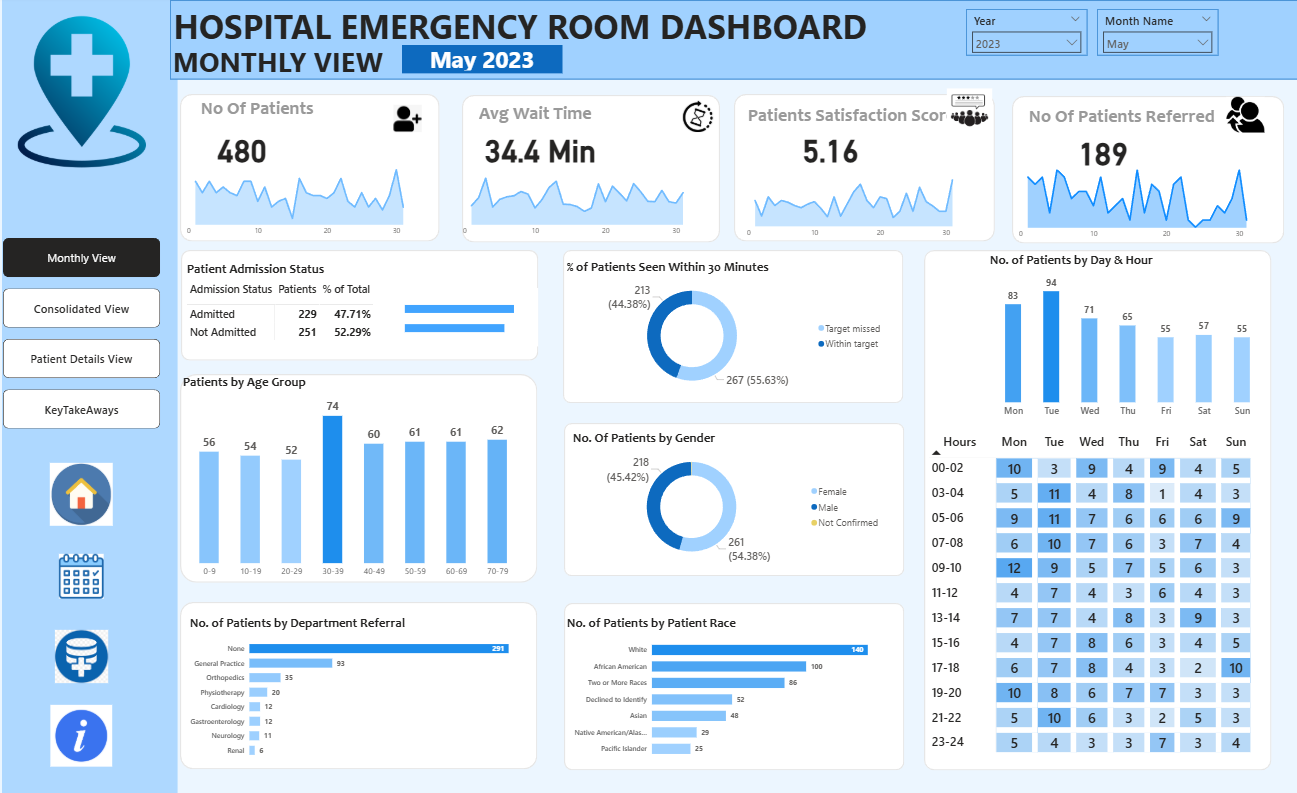

The page's visual inventory and layout, read from the dashboard file:
{"tool":"powerbi","page":{"name":"Monthly View","canvas":[2300,1400],"ordinal":0},"visuals":[{"type":"shape","box":[327.5,165,457.5,260],"z":0},{"type":"shape","box":[14.5,0,309.6,1400.5],"z":1000},{"type":"shape","box":[310,0,1990,140],"z":2000},{"type":"textbox","box":[310,0,1990,140],"z":3000},{"type":"textbox","box":[310,70,410,95],"z":4000},{"type":"card","fields":{"Values":["Hospital ER_Data.No. of Patients"]},"box":[360,222.5,155,75],"z":5000},{"type":"slicer","fields":{"Values":["Date Table.Year"]},"box":[1714,16,214,82],"z":6000},{"type":"slicer","fields":{"Values":["Date Table.Month Name"]},"box":[1944,16,214,82],"z":7000},{"type":"textbox","box":[360,165,252.5,60],"z":8000},{"type":"areaChart","fields":{"Category":["Date Table.Date.Variation.Date Hierarchy.Day"],"Y":["Hospital ER_Data.No. of Patients"]},"box":[327.5,280,457.5,145],"z":9000},{"type":"card","fields":{"Values":["Min(Date Table.Month & Year)"]},"box":[720,80,282.5,50],"z":10000},{"type":"shape","box":[825,167.5,455,260],"z":11000},{"type":"card","fields":{"Values":["Hospital ER_Data.AVG Wait Time"]},"box":[857.5,222.5,212.5,75],"z":12000},{"type":"textbox","box":[850,175,220,60],"z":13000},{"type":"areaChart","fields":{"Category":["Date Table.Date.Variation.Date Hierarchy.Day"],"Y":["Avg(Hospital ER_Data.Patient Waittime)"]},"box":[815,280,465,145],"z":14000},{"type":"shape","box":[1305,165,460,260],"z":15000},{"type":"card","fields":{"Values":["Avg(Hospital ER_Data.Patient Satisfaction Score)"]},"box":[1387.5,222.5,172.5,75],"z":16000},{"type":"shape","box":[330,440,630,195],"z":17000},{"type":"textbox","box":[1325,177.5,425,57.5],"z":18000},{"type":"areaChart","fields":{"Category":["Date Table.Date.Variation.Date Hierarchy.Day"],"Y":["Hospital ER_Data.Satisfaction Score"]},"box":[1316,282,436,146],"z":19000},{"type":"shape","box":[1795,170,480,260],"z":20000},{"type":"card","fields":{"Values":["Hospital ER_Data.No. Of Patients_Referred"]},"box":[1860,225,190,77.5],"z":21000},{"type":"textbox","box":[1820,180,432.5,57.5],"z":22000},{"type":"areaChart","fields":{"Category":["Date Table.Date.Variation.Date Hierarchy.Day"],"Y":["Hospital ER_Data.No. Of Patients_Referred"]},"box":[1795,285,480,145],"z":23000},{"type":"shape","box":[1002.5,440,600,270],"z":24000},{"type":"pivotTable","title":"Patient Admission Status","fields":{"Rows":["Hospital ER_Data.Admission Status"],"Values":["Hospital ER_Data.No. of Patients1","Hospital ER_Data.No. of Patients"]},"box":[335,460,605,150],"z":25000},{"type":"barChart","fields":{"Category":["Hospital ER_Data.Admission Status"],"Y":["Hospital ER_Data.No. of Patients"]},"box":[720,507.5,240,102.5],"z":26000},{"type":"shape","box":[328,660,630,368],"z":27000},{"type":"shape","box":[1640,440,612.5,917.5],"z":28000},{"type":"clusteredColumnChart","title":"Patients by Age Group","fields":{"Category":["Hospital ER_Data.Age Group"],"Y":["Hospital ER_Data.No. of Patients"]},"box":[328,660,612.5,367.5],"z":29000},{"type":"shape","box":[328,1061.5,630,295],"z":30000},{"type":"clusteredBarChart","fields":{"Category":["Hospital ER_Data.Department Referral"],"Y":["Hospital ER_Data.No. of Patients"]},"box":[340,1085,600,262.5],"z":31000},{"type":"donutChart","title":"% of Patients Seen Within 30 Minutes","fields":{"Category":["Hospital ER_Data.Wait_Time Status"],"Y":["Hospital ER_Data.No. of Patients"]},"box":[1005,457.5,572.5,242.5],"z":32000},{"type":"shape","box":[1005,745,600,270],"z":33000},{"type":"donutChart","title":"No. Of Patients by Gender","fields":{"Y":["Hospital ER_Data.No. of Patients"],"Category":["Hospital ER_Data.Patient Gender"]},"box":[1015,757.5,557.5,242.5],"z":34000},{"type":"shape","box":[1005,1062.5,600,295],"z":35000},{"type":"clusteredBarChart","fields":{"Y":["Hospital ER_Data.No. of Patients"],"Category":["Hospital ER_Data.Patient Race"]},"box":[1005,1085,567.5,262.5],"z":36000},{"type":"pivotTable","fields":{"Rows":["Hospital ER_Data.Wait_Time Interval"],"Columns":["Date Table.Day_Name"],"Values":["Hospital ER_Data.No. of Patients"]},"box":[1642.5,757.5,605,585],"z":37000},{"type":"columnChart","title":"No. of Patients by Day & Hour","fields":{"Category":["Date Table.Day_Name"],"Y":["Hospital ER_Data.No. of Patients"]},"box":[1750,445,497.5,300],"z":38000},{"type":"image","box":[697.5,180,62.5,57.5],"z":39000},{"type":"image","box":[1202.5,172.5,77.5,65],"z":40000},{"type":"image","box":[1675,150,90,92.5],"z":41000},{"type":"image","box":[2160,165,92.5,72.5],"z":42000},{"type":"image","box":[15,22.5,277.5,277.5],"z":43000},{"type":"pageNavigator","box":[15,420,277.5,337.5],"z":44000},{"type":"image","box":[87.1,810.3,135.5,120.9],"z":45000},{"type":"image","box":[87.1,972.4,135.5,89.5],"z":46000},{"type":"image","box":[87.1,1105.4,135.5,104],"z":47000},{"type":"image","box":[87.1,1238.4,135.5,118.5],"z":48000}]}

Visuals, with their boxes in screenshot pixels (x1, y1, x2, y2), scaled from the page's 2300x1400 canvas onto the 1297x793 screenshot:
shape: {"x1": 185, "y1": 93, "x2": 443, "y2": 241}
shape: {"x1": 8, "y1": 0, "x2": 183, "y2": 792}
shape: {"x1": 175, "y1": 0, "x2": 1296, "y2": 79}
textbox: {"x1": 175, "y1": 0, "x2": 1296, "y2": 79}
textbox: {"x1": 175, "y1": 40, "x2": 406, "y2": 93}
card - Hospital ER_Data.No. of Patients: {"x1": 203, "y1": 126, "x2": 290, "y2": 169}
slicer - Date Table.Year: {"x1": 967, "y1": 9, "x2": 1087, "y2": 56}
slicer - Date Table.Month Name: {"x1": 1096, "y1": 9, "x2": 1217, "y2": 56}
textbox: {"x1": 203, "y1": 93, "x2": 345, "y2": 127}
areaChart - Date Table.Date.Variation.Date Hierarchy.Day x Hospital ER_Data.No. of Patients: {"x1": 185, "y1": 159, "x2": 443, "y2": 241}
card - Min(Date Table.Month & Year): {"x1": 406, "y1": 45, "x2": 565, "y2": 74}
shape: {"x1": 465, "y1": 95, "x2": 722, "y2": 242}
card - Hospital ER_Data.AVG Wait Time: {"x1": 484, "y1": 126, "x2": 603, "y2": 169}
textbox: {"x1": 479, "y1": 99, "x2": 603, "y2": 133}
areaChart - Date Table.Date.Variation.Date Hierarchy.Day x Avg(Hospital ER_Data.Patient Waittime): {"x1": 460, "y1": 159, "x2": 722, "y2": 241}
shape: {"x1": 736, "y1": 93, "x2": 995, "y2": 241}
card - Avg(Hospital ER_Data.Patient Satisfaction Score): {"x1": 782, "y1": 126, "x2": 880, "y2": 169}
shape: {"x1": 186, "y1": 249, "x2": 541, "y2": 360}
textbox: {"x1": 747, "y1": 101, "x2": 987, "y2": 133}
areaChart - Date Table.Date.Variation.Date Hierarchy.Day x Hospital ER_Data.Satisfaction Score: {"x1": 742, "y1": 160, "x2": 988, "y2": 242}
shape: {"x1": 1012, "y1": 96, "x2": 1283, "y2": 244}
card - Hospital ER_Data.No. Of Patients_Referred: {"x1": 1049, "y1": 127, "x2": 1156, "y2": 171}
textbox: {"x1": 1026, "y1": 102, "x2": 1270, "y2": 135}
areaChart - Date Table.Date.Variation.Date Hierarchy.Day x Hospital ER_Data.No. Of Patients_Referred: {"x1": 1012, "y1": 161, "x2": 1283, "y2": 244}
shape: {"x1": 565, "y1": 249, "x2": 904, "y2": 402}
"Patient Admission Status" pivotTable: {"x1": 189, "y1": 261, "x2": 530, "y2": 346}
barChart - Hospital ER_Data.Admission Status x Hospital ER_Data.No. of Patients: {"x1": 406, "y1": 287, "x2": 541, "y2": 346}
shape: {"x1": 185, "y1": 374, "x2": 540, "y2": 582}
shape: {"x1": 925, "y1": 249, "x2": 1270, "y2": 769}
"Patients by Age Group" clusteredColumnChart: {"x1": 185, "y1": 374, "x2": 530, "y2": 582}
shape: {"x1": 185, "y1": 601, "x2": 540, "y2": 768}
clusteredBarChart - Hospital ER_Data.Department Referral x Hospital ER_Data.No. of Patients: {"x1": 192, "y1": 615, "x2": 530, "y2": 763}
"% of Patients Seen Within 30 Minutes" donutChart: {"x1": 567, "y1": 259, "x2": 890, "y2": 396}
shape: {"x1": 567, "y1": 422, "x2": 905, "y2": 575}
"No. Of Patients by Gender" donutChart: {"x1": 572, "y1": 429, "x2": 887, "y2": 566}
shape: {"x1": 567, "y1": 602, "x2": 905, "y2": 769}
clusteredBarChart - Hospital ER_Data.No. of Patients x Hospital ER_Data.Patient Race: {"x1": 567, "y1": 615, "x2": 887, "y2": 763}
pivotTable - Hospital ER_Data.Wait_Time Interval x Date Table.Day_Name: {"x1": 926, "y1": 429, "x2": 1267, "y2": 760}
"No. of Patients by Day & Hour" columnChart: {"x1": 987, "y1": 252, "x2": 1267, "y2": 422}
image: {"x1": 393, "y1": 102, "x2": 429, "y2": 135}
image: {"x1": 678, "y1": 98, "x2": 722, "y2": 135}
image: {"x1": 945, "y1": 85, "x2": 995, "y2": 137}
image: {"x1": 1218, "y1": 93, "x2": 1270, "y2": 135}
image: {"x1": 8, "y1": 13, "x2": 165, "y2": 170}
pageNavigator: {"x1": 8, "y1": 238, "x2": 165, "y2": 429}
image: {"x1": 49, "y1": 459, "x2": 126, "y2": 527}
image: {"x1": 49, "y1": 551, "x2": 126, "y2": 601}
image: {"x1": 49, "y1": 626, "x2": 126, "y2": 685}
image: {"x1": 49, "y1": 701, "x2": 126, "y2": 769}
